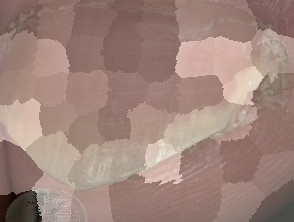Nail_psoriasis: (5, 0, 294, 222), (0, 0, 69, 52)
